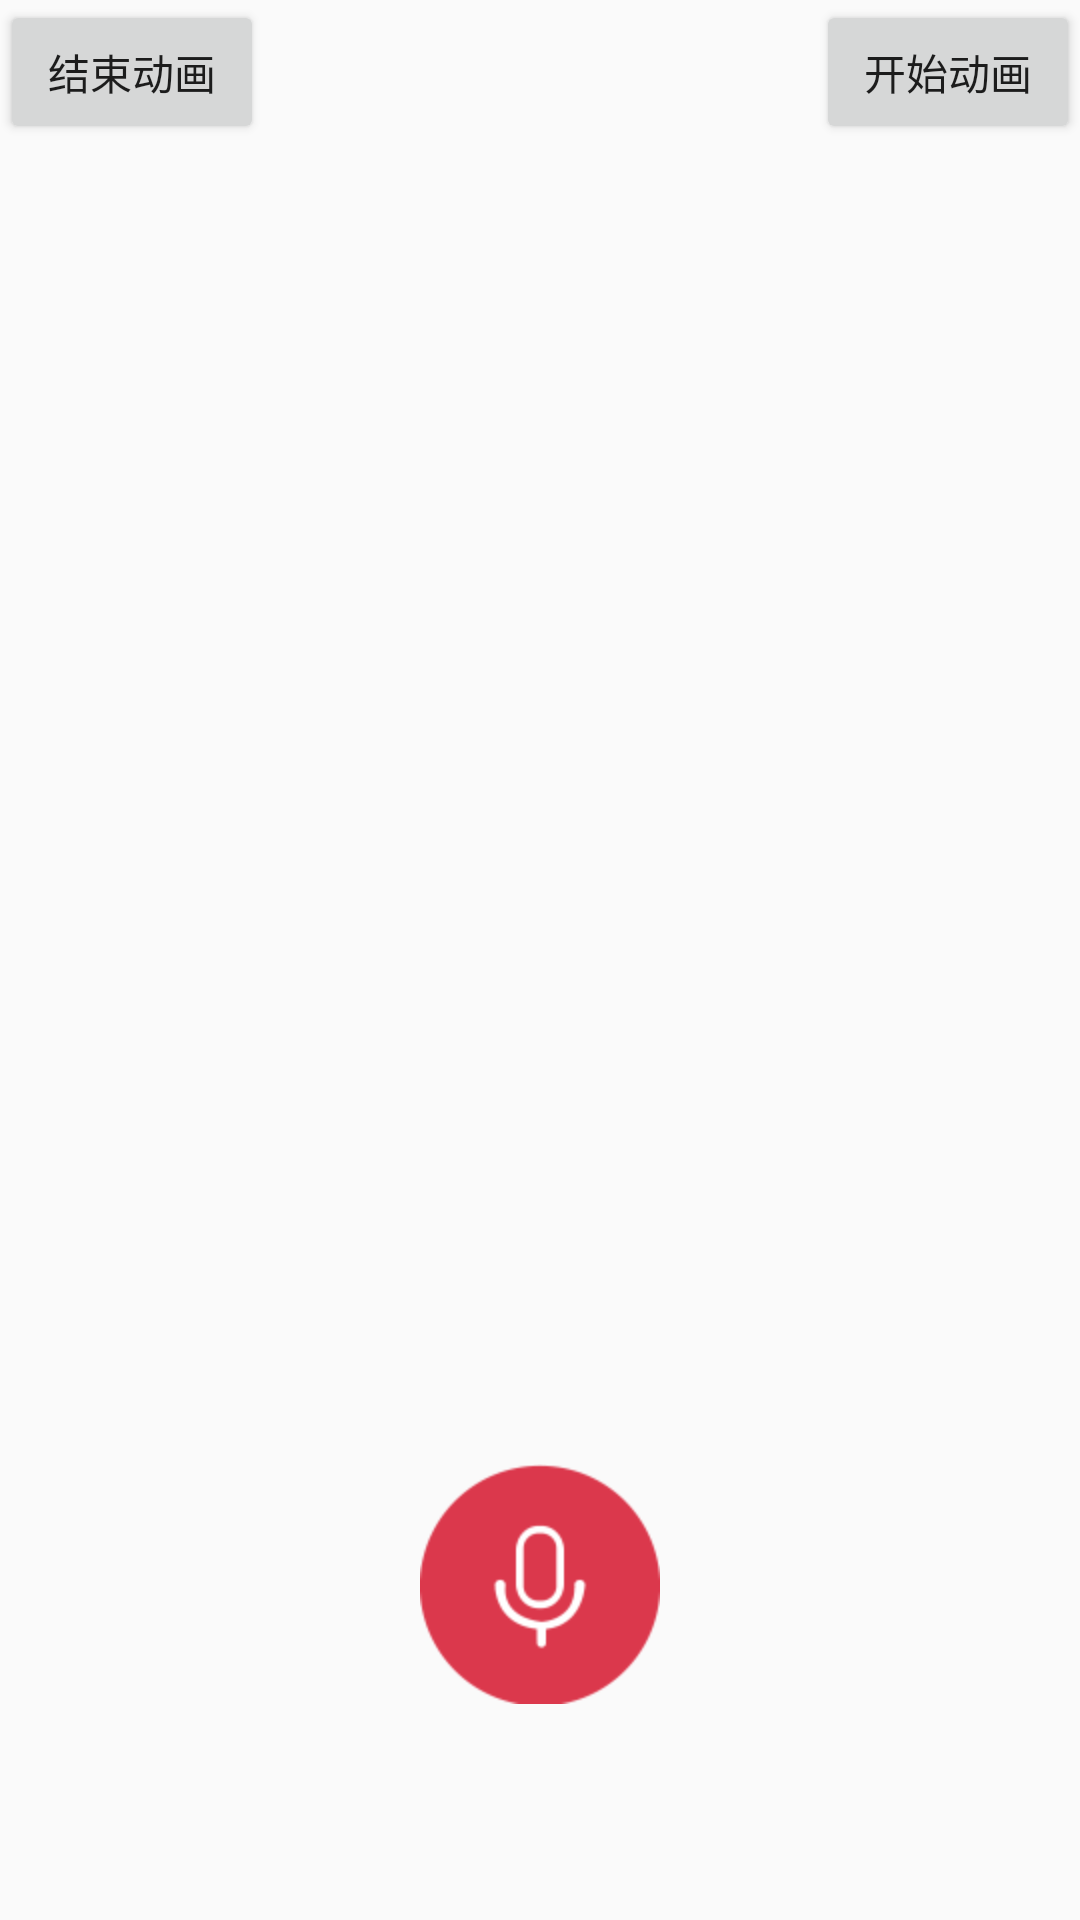

Where icons sit on this 1080x1920 app screen, as region(x1, y1, x2, y2):
voice: region(420, 1465, 660, 1704)
